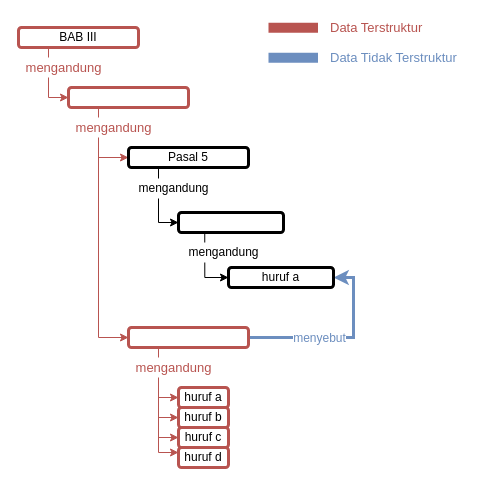
Image size: 486x486. Some labels were removed from this diagram. Here are the shapes that lost their labels. From the top down, the centre of each, then its label:
the point at 128,97: Bagian Kesatu
the point at 230,222: ayat (1)
the point at 188,337: Pasal 6
